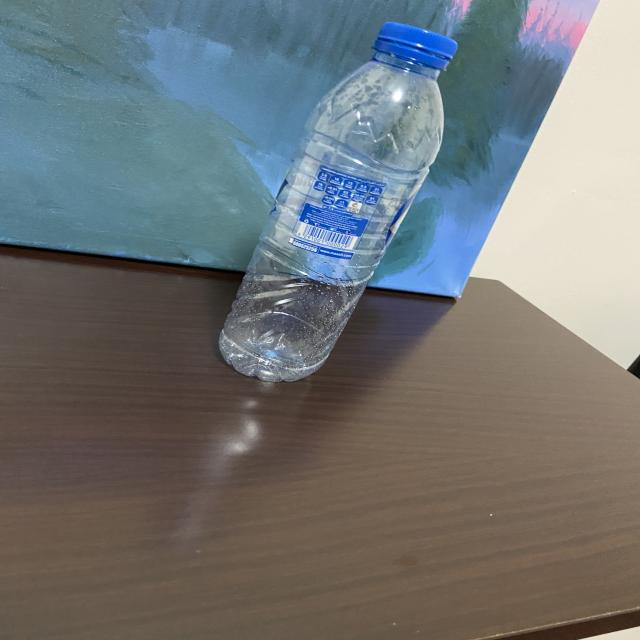bottle: (216, 19, 462, 386)
